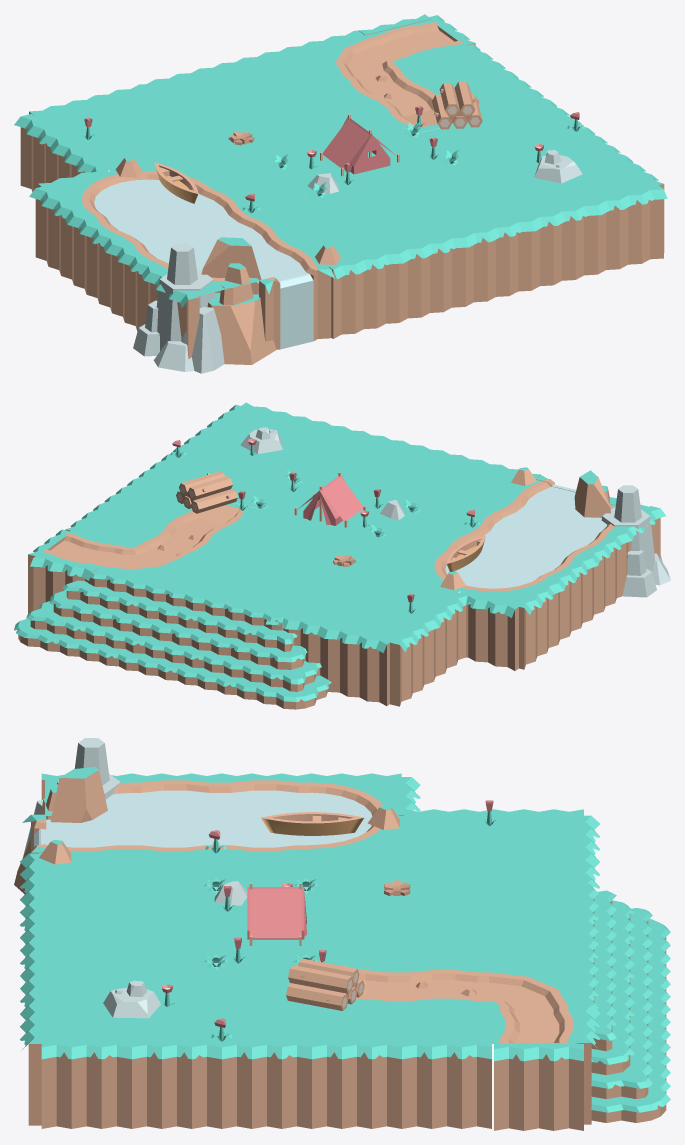
File: world_final.glb
3 renders of one model, top to bottom at view 1: azimuth 30°, elevation 25°; view 2: azimuth 150°, elevation 25°; view 3: azimuth 270°, elevation 25°, orthographic. The views are drawn at different scales.
Parts seen in each view (by area): view 1: stone_tallB, ground_grass.027, cliff_stepsCorner_rock.001, tent_detailedOpen, ground_grass.030, log_stackLarge, ground_pathEnd, stone_smallTopB, canoe; view 2: stone_tallB, cliff_stepsCorner_rock.001, ground_grass.027, cliff_top_rock.002, tent_detailedOpen, log_stackLarge, ground_pathEnd, cliff_top_rock, stone_smallTopB, canoe, ground_grass.030; view 3: stone_tallB, ground_grass.027, cliff_stepsCorner_rock.001, tent_detailedOpen, log_stackLarge, canoe, ground_pathEnd, stone_smallTopB, ground_grass.030, cliff_top_rock.002.
Boxes of the visible parts, left/top/right/bottom form: stone_tallB: left=14, top=14, right=667, bottom=373; ground_grass.027: left=34, top=19, right=654, bottom=283; cliff_stepsCorner_rock.001: left=29, top=14, right=663, bottom=322; tent_detailedOpen: left=320, top=114, right=399, bottom=176; ground_grass.030: left=566, top=158, right=658, bottom=200; log_stackLarge: left=432, top=81, right=482, bottom=129; ground_pathEnd: left=375, top=91, right=453, bottom=132; stone_smallTopB: left=534, top=150, right=582, bottom=183; canoe: left=154, top=162, right=198, bottom=203; stone_tallB: left=20, top=402, right=670, bottom=709; cliff_stepsCorner_rock.001: left=14, top=404, right=566, bottom=709; ground_grass.027: left=39, top=405, right=575, bottom=640; cliff_top_rock.002: left=266, top=616, right=391, bottom=705; tent_detailedOpen: left=294, top=472, right=365, bottom=527; log_stackLarge: left=176, top=471, right=237, bottom=513; ground_pathEnd: left=165, top=503, right=256, bottom=533; cliff_top_rock: left=30, top=561, right=88, bottom=609; stone_smallTopB: left=240, top=427, right=282, bottom=453; canoe: left=446, top=535, right=485, bottom=571; ground_grass.030: left=213, top=405, right=295, bottom=436; stone_tallB: left=14, top=738, right=670, bottom=1130; ground_grass.027: left=39, top=815, right=578, bottom=1043; cliff_stepsCorner_rock.001: left=20, top=815, right=670, bottom=1130; tent_detailedOpen: left=247, top=883, right=306, bottom=945; log_stackLarge: left=286, top=958, right=364, bottom=1010; canoe: left=261, top=812, right=363, bottom=835; ground_pathEnd: left=309, top=967, right=399, bottom=1005; stone_smallTopB: left=103, top=980, right=160, bottom=1018; ground_grass.030: left=39, top=1006, right=128, bottom=1043; cliff_top_rock.002: left=579, top=815, right=600, bottom=898.
Bounding box in the file's own units: 7.66 × 1.56 × 7.3.
